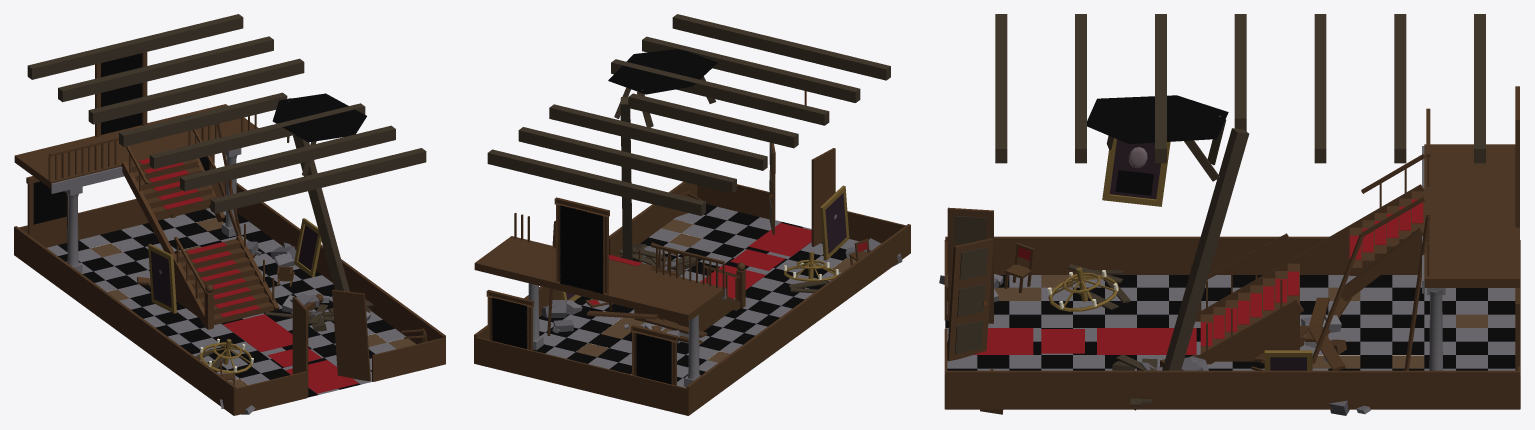
File: SM_Abandoned_Hall.fbx
3 views of the same model, side by side, from view 1: azimuth 30°, elevation 25°; view 2: azimuth 150°, elevation 25°; view 3: azimuth 270°, elevation 25° (orthographic). The views are drawn at different scales.
Visible parts, largest first — view 1: SM_Abandoned_Hall; view 2: SM_Abandoned_Hall; view 3: SM_Abandoned_Hall.
Part boxes in pixels (x1=…): SM_Abandoned_Hall: x1=14, y1=14, x2=445, y2=415; SM_Abandoned_Hall: x1=474, y1=14, x2=910, y2=415; SM_Abandoned_Hall: x1=939, y1=14, x2=1520, y2=415.
Bounding box in the file's own units: 8.47 × 7.39 × 14.58.
